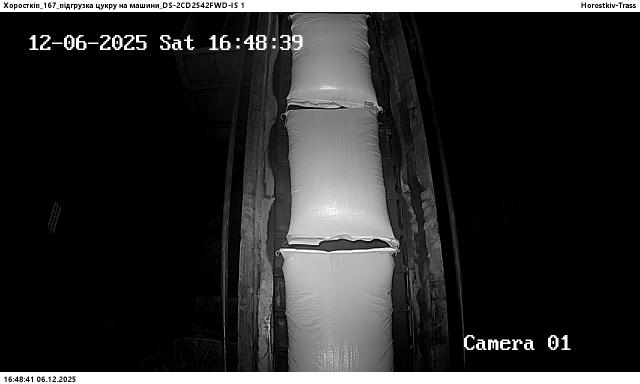bag: (286, 107, 398, 246), (276, 248, 396, 372), (288, 14, 379, 110)
